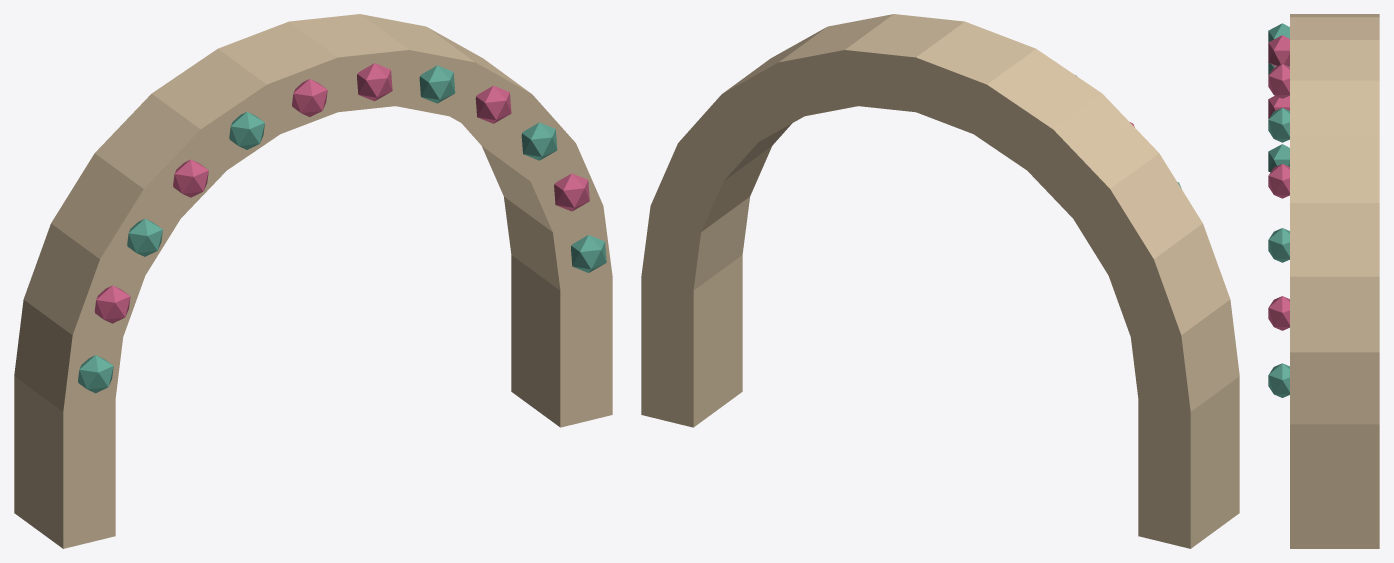
Rendered from Candyland_FrostingGate_Simple.glb.
3 renders of one model, left to right at view 1: azimuth 30°, elevation 25°; view 2: azimuth 150°, elevation 25°; view 3: azimuth 270°, elevation 25°, orthographic. The views are drawn at different scales.
Parts seen in each view (by area): view 1: Candyland_FrostingGate_Simple; view 2: Candyland_FrostingGate_Simple; view 3: Candyland_FrostingGate_Simple.
Boxes of the visible parts, <box> form: Candyland_FrostingGate_Simple: <box>14,14,612,548</box>; Candyland_FrostingGate_Simple: <box>641,14,1239,548</box>; Candyland_FrostingGate_Simple: <box>1268,14,1379,548</box>.
Bounding box in the file's own units: 4.2 × 3.1 × 0.8071.
